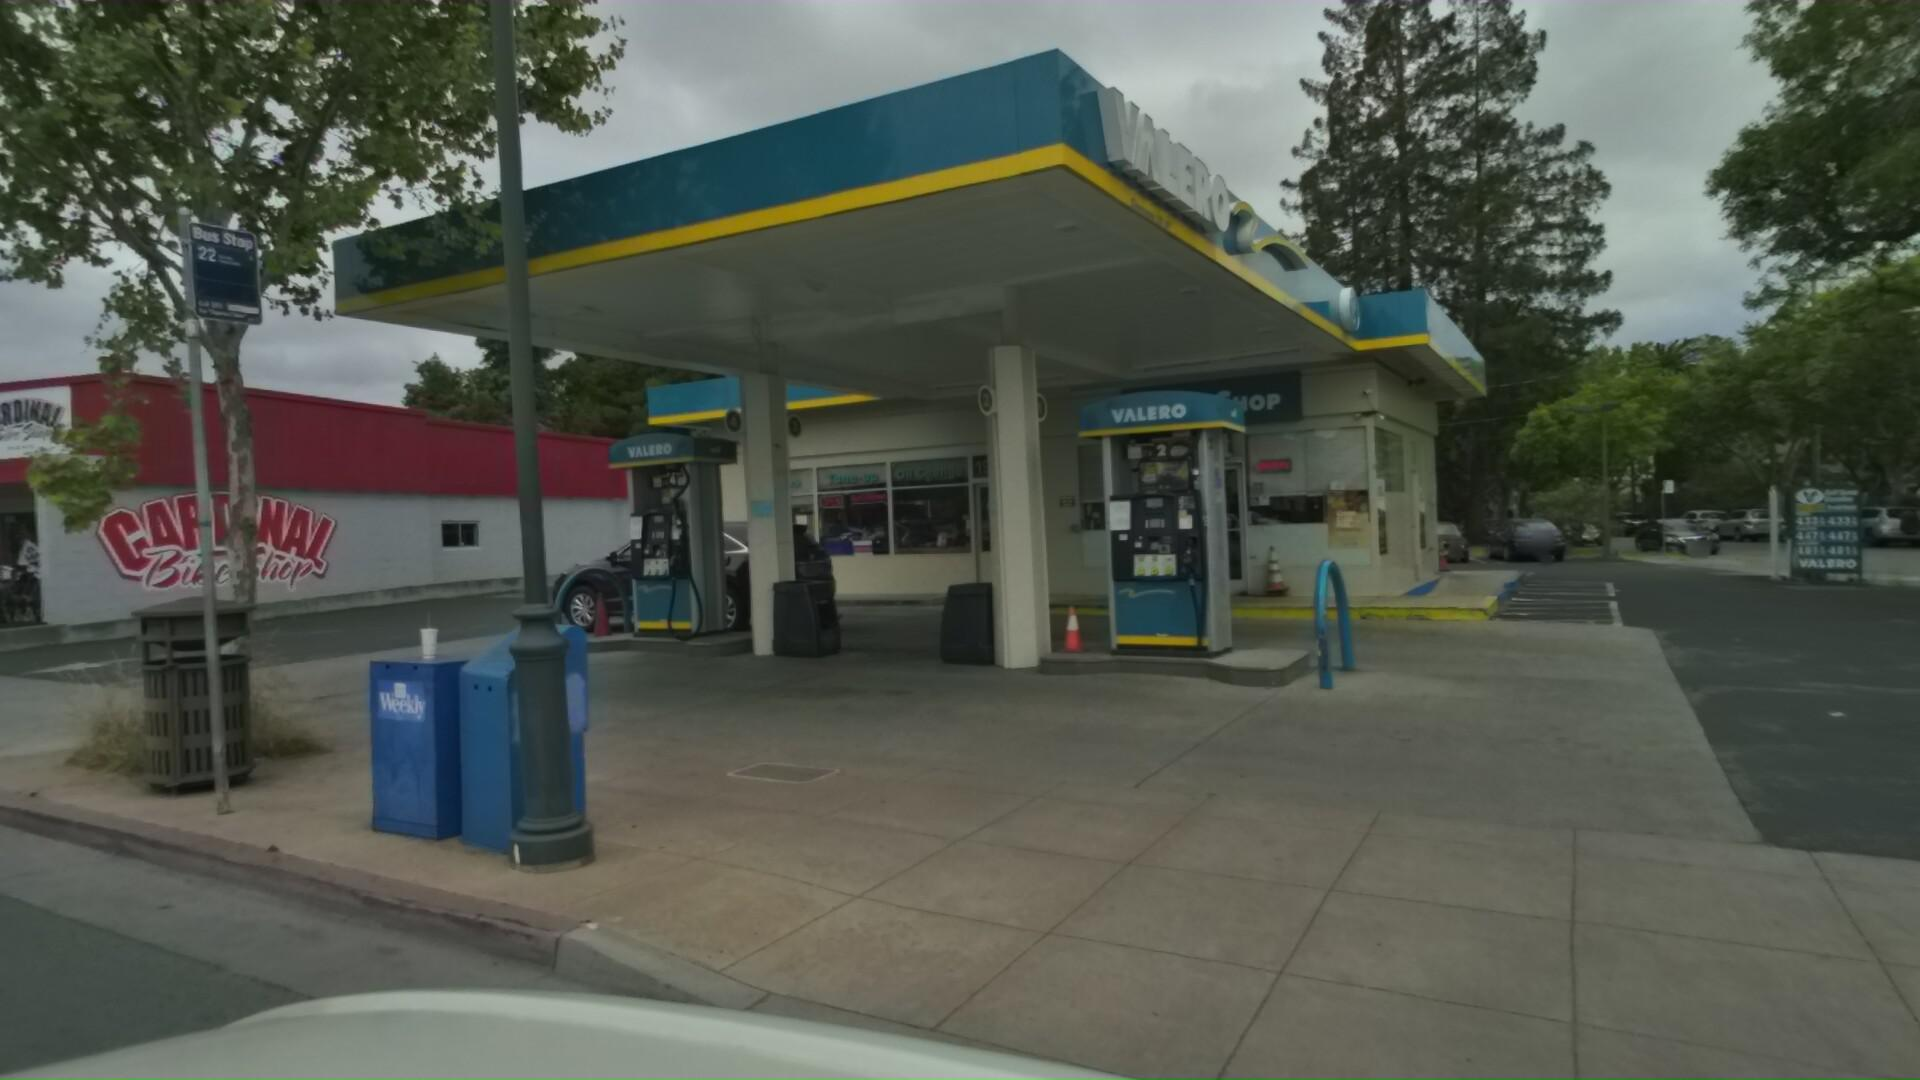bicycle: (0, 553, 88, 633), (0, 553, 74, 634), (0, 553, 61, 634), (0, 554, 44, 636), (0, 554, 30, 636), (0, 555, 16, 636), (0, 559, 3, 640)
car: (535, 502, 885, 638), (1491, 506, 1586, 562), (1635, 509, 1738, 556), (1832, 493, 1920, 545), (1408, 512, 1487, 567), (1706, 498, 1800, 538), (1667, 500, 1741, 537), (1545, 512, 1615, 543), (1597, 505, 1654, 533)
